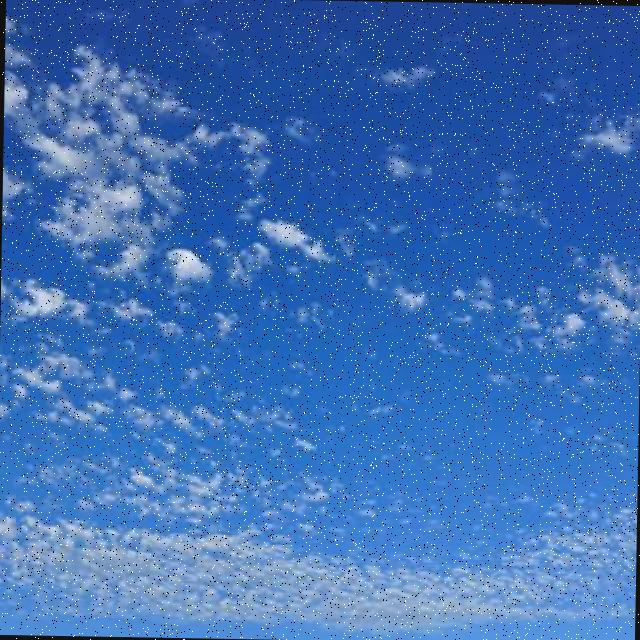Ac: (1, 44, 640, 631)
